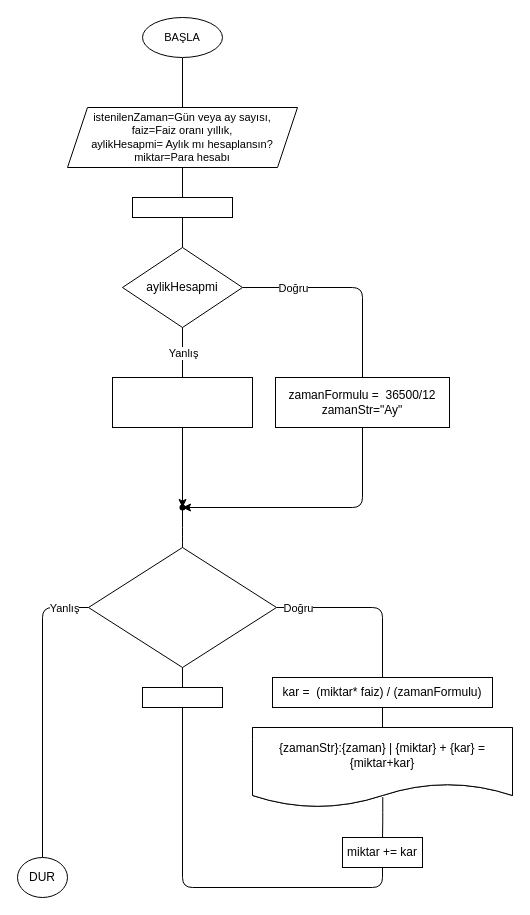
The diagram is 530 pixels wide and 915 high, and some of its shapes have lost their labels. The centre of each missing label's shape, as x and y in pixels:
gecenZaman <= istenilenZaman: [182,607]
gecenZaman=1: [182,207]
zaman+=1: [182,697]
zamanFormulu = 36500 zamanStr="Gün": [182,402]
